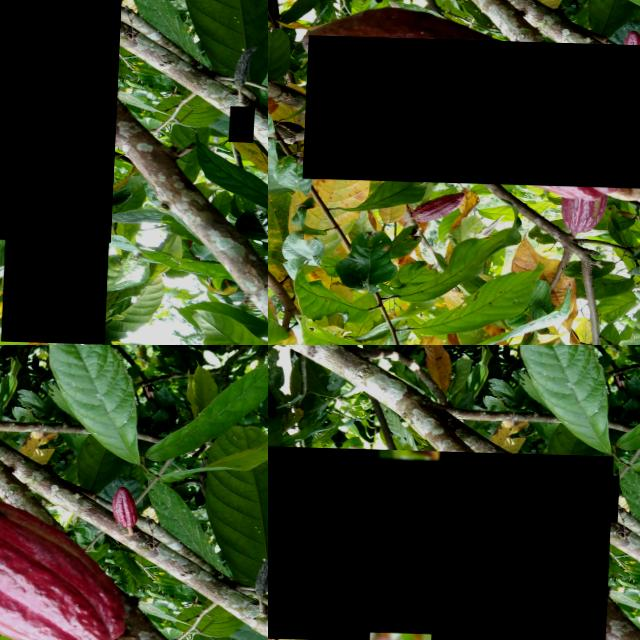Fitoftora: (268, 445, 615, 640), (305, 34, 640, 186), (0, 0, 123, 239), (6, 234, 113, 342)
Sana: (575, 472, 622, 520), (232, 102, 258, 139), (372, 631, 434, 640)
